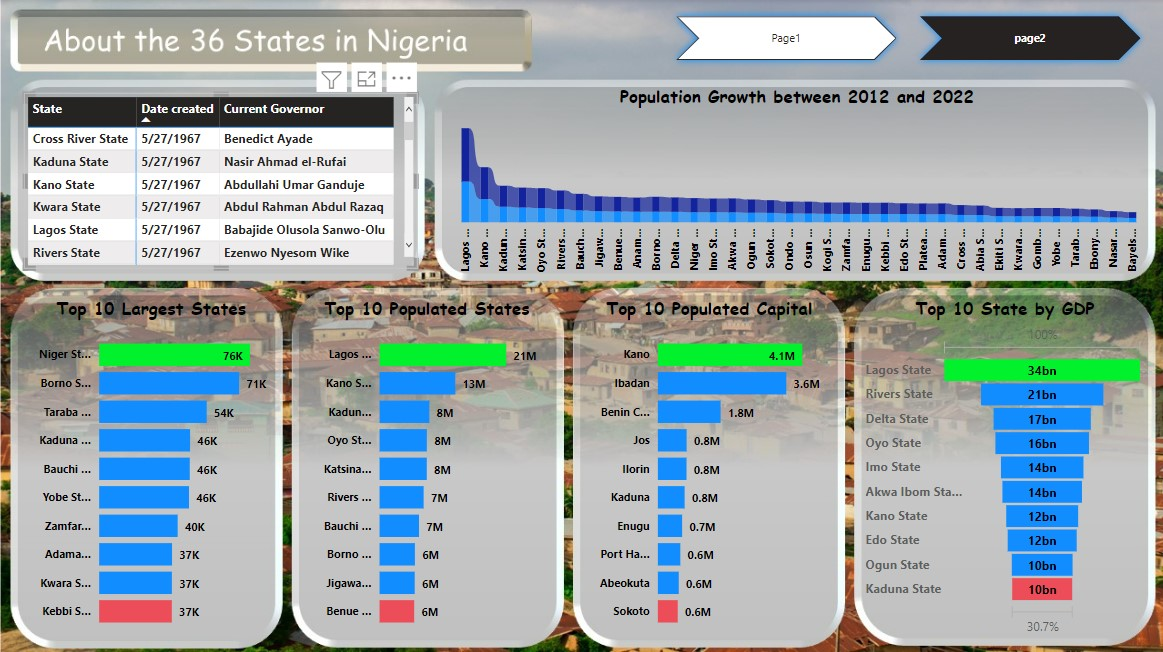

The dashboard page shown, as its layout file describes it:
{"tool":"powerbi","page":{"name":"page2","canvas":[1280,720],"ordinal":1},"visuals":[{"type":"pivotTable","fields":{"Rows":["df.State"],"Values":["df.Date created","df.Current Governor"]},"box":[26.1,103,432.6,193.6],"z":0},{"type":"ribbonChart","title":"Population Growth between 2012 and 2022","fields":{"Category":["df.State"],"Y":["df.Population (2012)","df.Population (2022)"]},"box":[488.9,93.4,773.2,217],"z":1},{"type":"clusteredBarChart","title":"Top 10 Largest States","fields":{"Category":["df.State"],"Y":["df.State Area (km²)"]},"box":[26.1,326.9,280.2,376.3],"z":2},{"type":"clusteredBarChart","title":"Top 10 Populated States","fields":{"Category":["df.State"],"Y":["df.Population (2022)"]},"box":[339.2,326.9,259.6,376.3],"z":3},{"type":"clusteredBarChart","title":"Top 10 Populated Capital ","fields":{"Category":["df.Capital"],"Y":["The_biggest_state_capitals.Capital Population"]},"box":[640,326.9,278.8,376.3],"z":4},{"type":"funnel","title":"Top 10 State by GDP","fields":{"Category":["df.State"],"Y":["df.GDP ($)"]},"box":[946.3,326.9,315.9,376.3],"z":5},{"type":"pageNavigator","box":[734.8,11,527.4,64.5],"z":6}]}

Visuals, with their boxes in screenshot pixels (x1, y1, x2, y2), scaled from the page's 1280x720 canvas onto the 1163x652 screenshot:
pivotTable - df.State x df.Date created: (x1=24, y1=93, x2=417, y2=269)
"Population Growth between 2012 and 2022" ribbonChart: (x1=444, y1=85, x2=1147, y2=281)
"Top 10 Largest States" clusteredBarChart: (x1=24, y1=296, x2=278, y2=637)
"Top 10 Populated States" clusteredBarChart: (x1=308, y1=296, x2=544, y2=637)
"Top 10 Populated Capital " clusteredBarChart: (x1=582, y1=296, x2=835, y2=637)
"Top 10 State by GDP" funnel: (x1=860, y1=296, x2=1147, y2=637)
pageNavigator: (x1=668, y1=10, x2=1147, y2=68)
